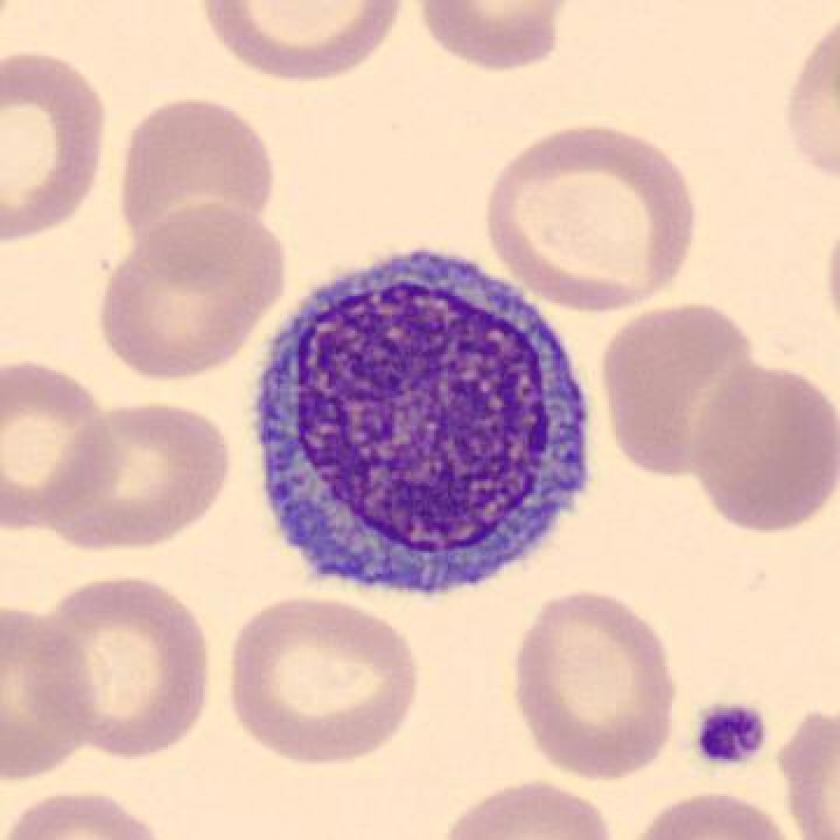monocyte: (230, 226, 610, 615)
